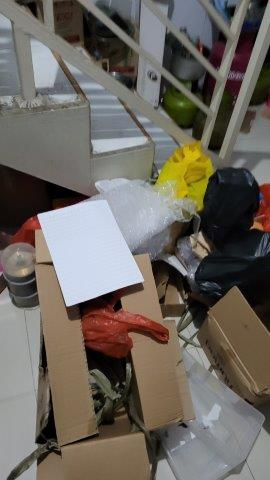kertas: (35, 197, 145, 308)
